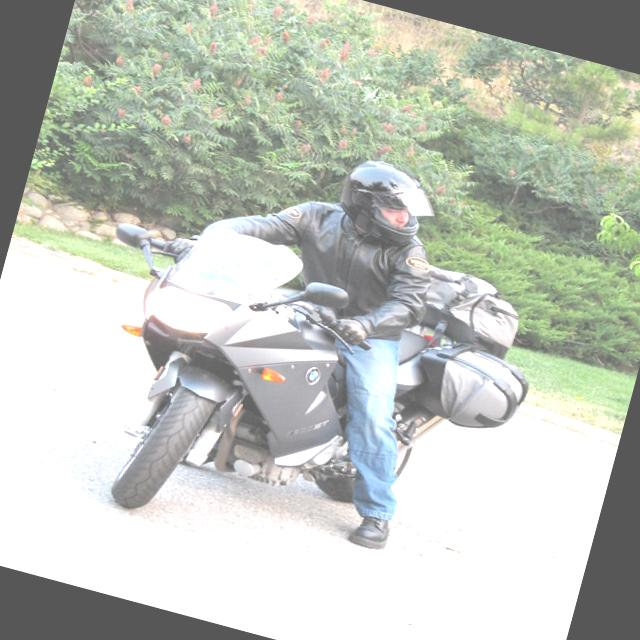Vehicle: (46, 198, 472, 582)
